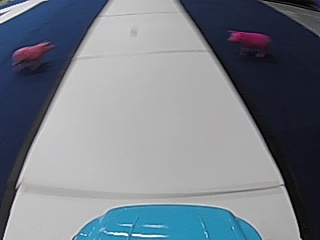pig: (225, 25, 271, 59), (10, 38, 54, 72)
